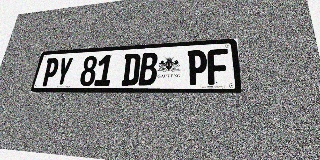1: (94, 55, 114, 86)
8: (79, 56, 99, 86)
B: (138, 52, 158, 85)
D: (121, 53, 141, 86)
F: (207, 48, 229, 85)
P: (187, 50, 207, 85), (40, 58, 60, 86)
Y: (54, 57, 74, 86)
